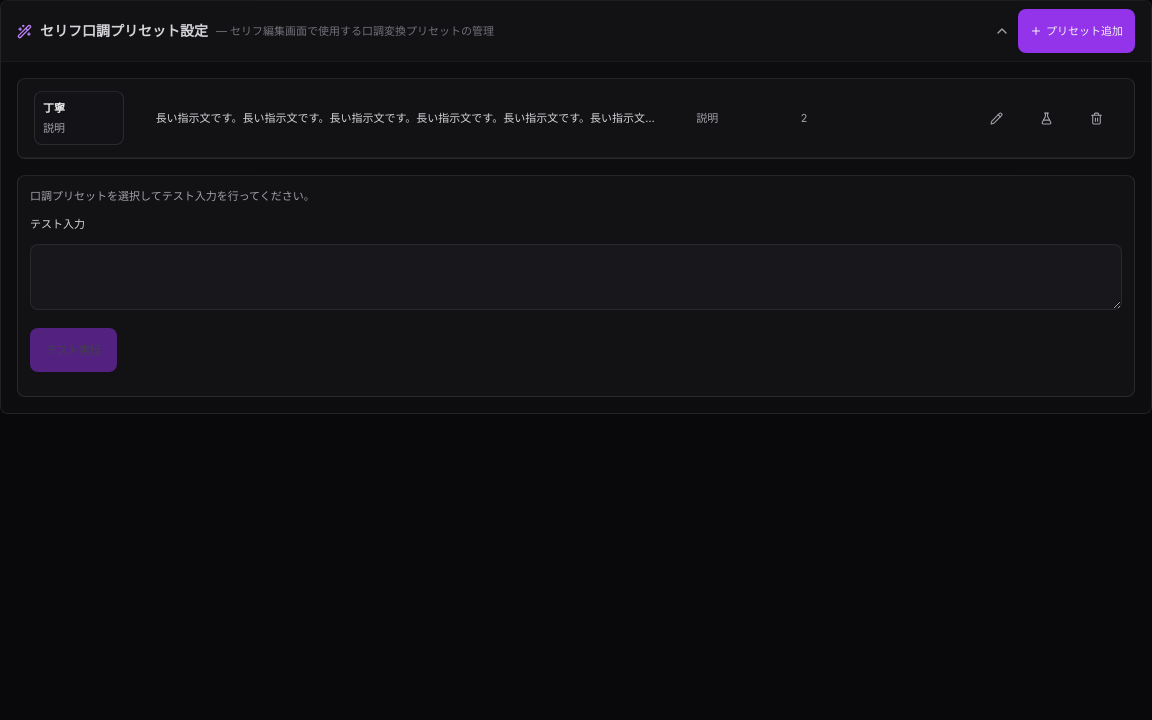
it: SpeechToneSection › [REQ-381/AC-8] successful explicit Save sends normalized real-client payload and closes the modal
Expected: the element "丁寧" is shown, [34,91,124,145]
Click the button titled "編集". click: (996, 118)
box: [974,96,1018,140]
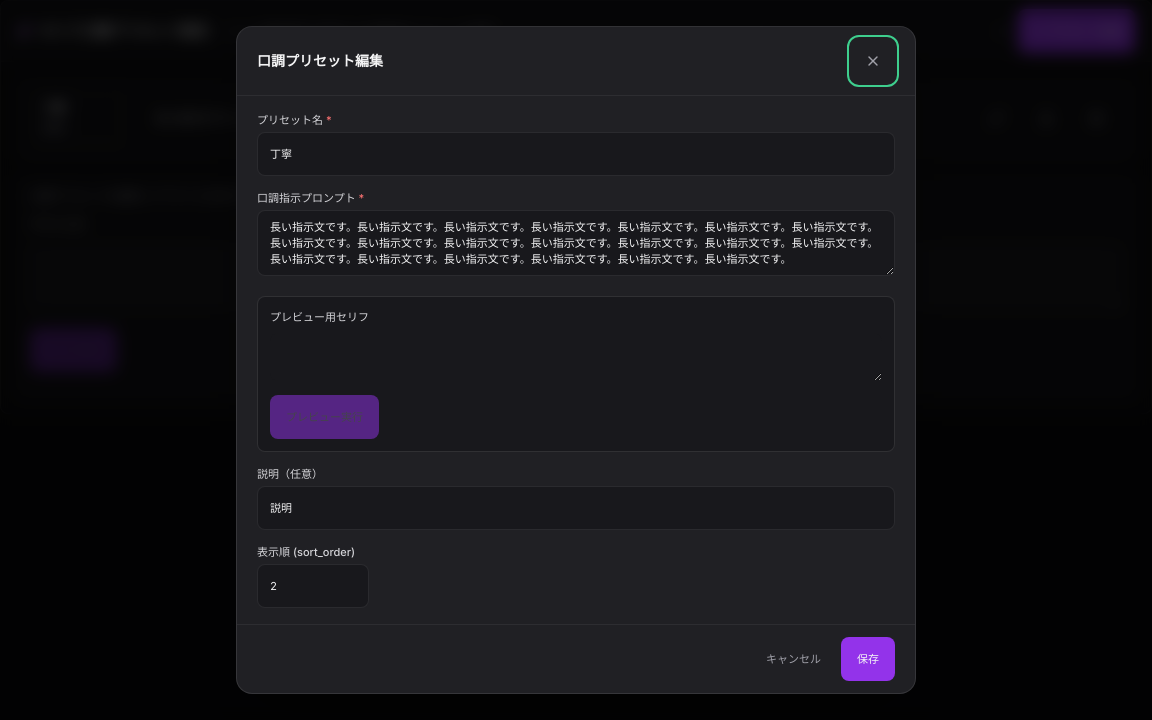
Replace the text in the 1st field showing "丁寧" with " 新しい名前 ". click: (576, 154)
box: [257,132,895,176]
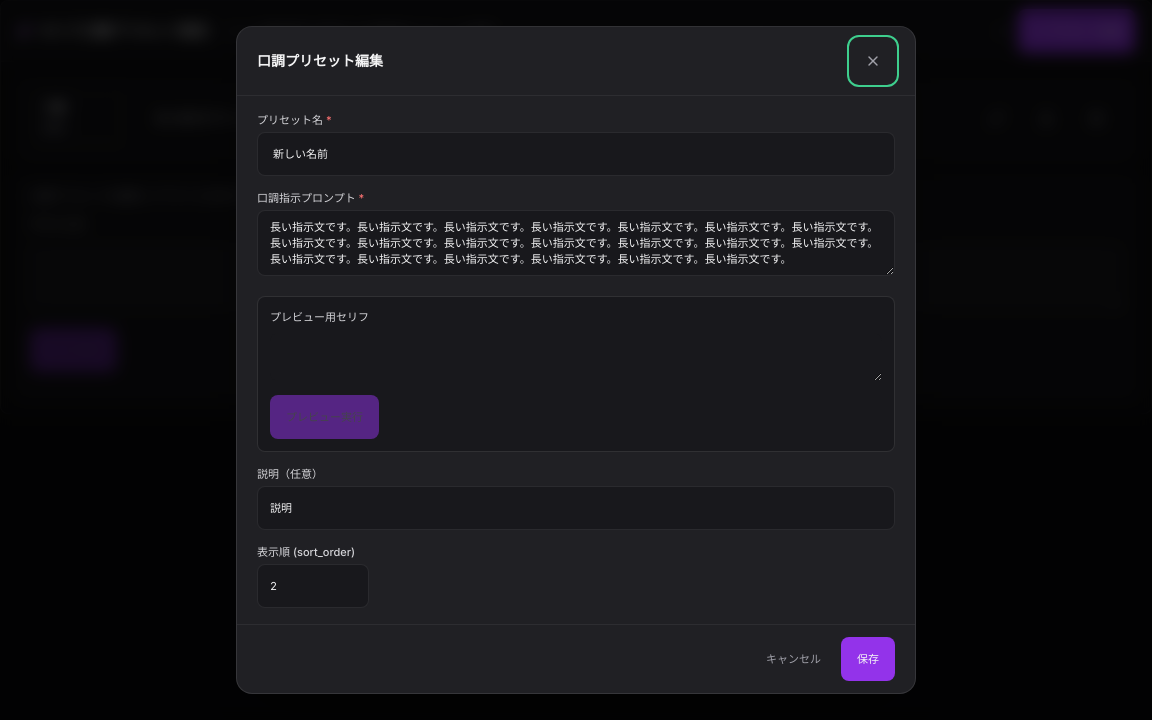
Click the button "保存". click: (868, 659)
box: [841,637,895,681]
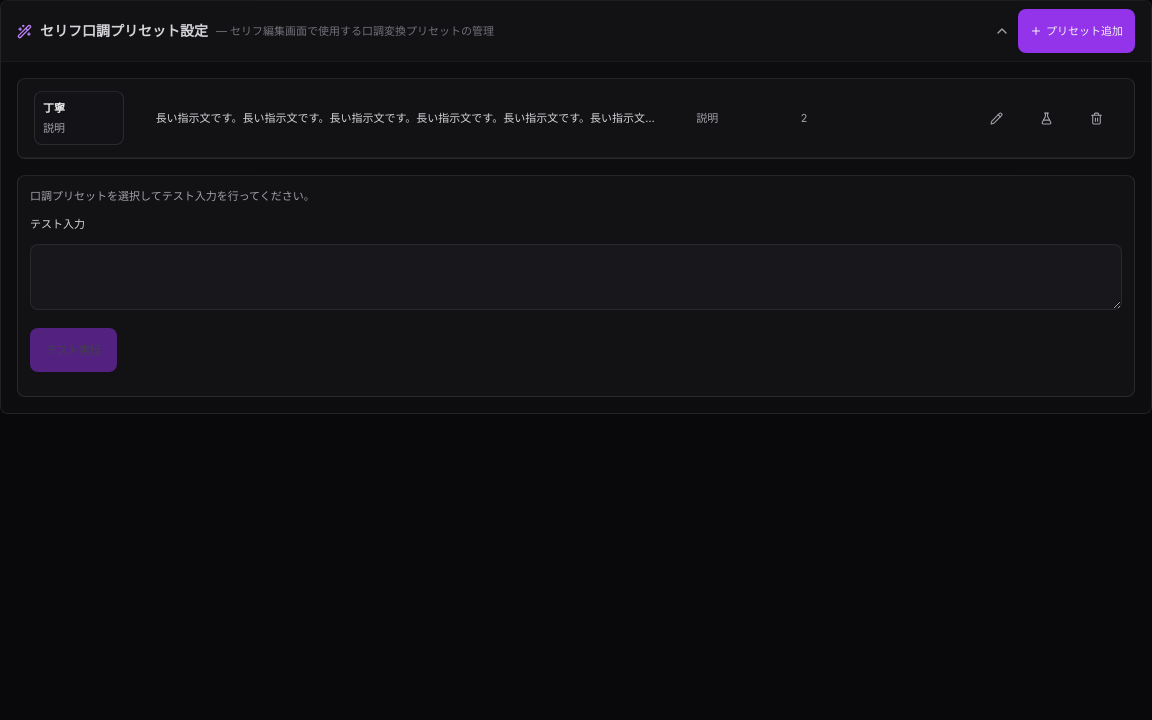
Now the heading "口調プリセット編集" is gone
